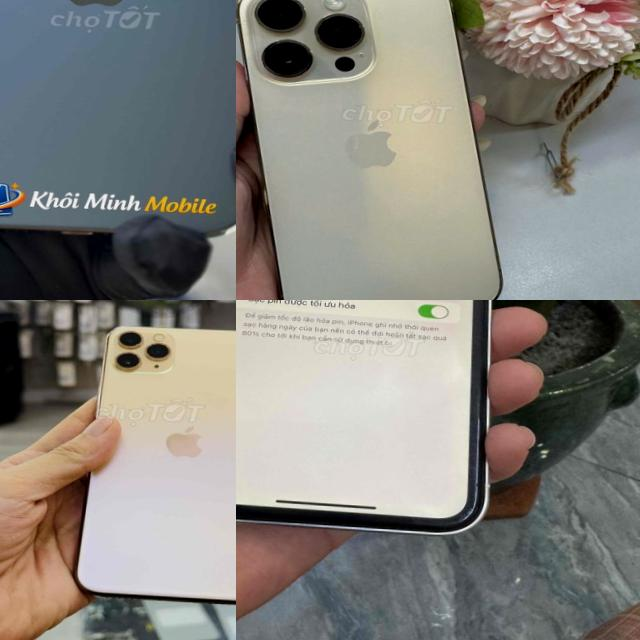gen_11: (69, 313, 236, 612)
gen_14: (236, 0, 523, 300), (0, 0, 236, 239)
gen_x_xs: (236, 300, 504, 542)
